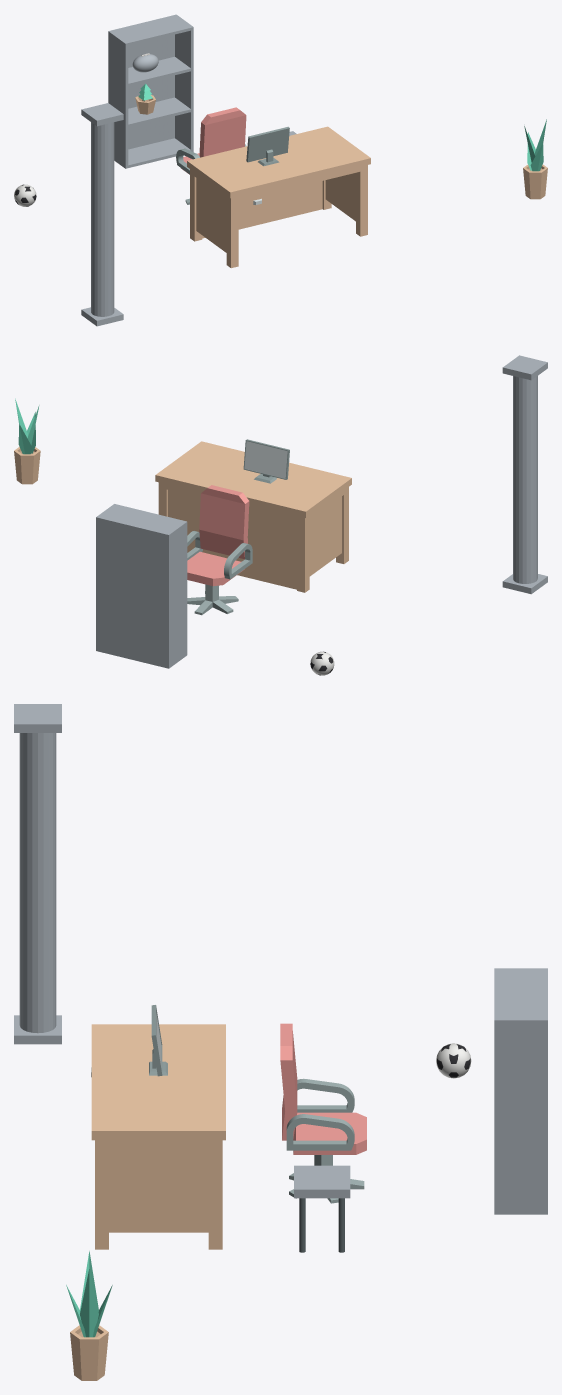
3 renders of one model, top to bottom at view 1: azimuth 30°, elevation 25°; view 2: azimuth 150°, elevation 25°; view 3: azimuth 270°, elevation 25°, orthographic. The views are drawn at different scales.
Visible parts, largest first — view 1: desk_blue__desk(Clone), column_cyan__column_cyan shaft, shelf_orange__shelf_orange back, shelf_orange__shelf_orange side_l, deskchair_black__chair, shelf_orange__shelf_orange side_r, monitor_gray__computerScreen(Clone), shelf_orange__shelf_orange board3, shelf_orange__shelf_orange board0, shelf_orange__shelf_orange board1, shelf_orange__shelf_orange board2, plant_pink__pottedPlant(Clone) (+7 smaller); view 2: desk_blue__desk(Clone), shelf_orange__shelf_orange back, column_cyan__column_cyan shaft, deskchair_black__chair, shelf_orange__shelf_orange side_l, monitor_gray__computerScreen(Clone), shelf_orange__shelf_orange board3, deskchair_black__chairDesk(Clone), plant_pink__pottedPlant(Clone), column_cyan__column_cyan capital, plant_pink__plant, soccer_white__soccer_white (+2 smaller); view 3: desk_blue__desk(Clone), column_cyan__column_cyan shaft, shelf_orange__shelf_orange side_r, deskchair_black__chair, shelf_orange__shelf_orange board3, stool_purple__stool_purple seat, plant_pink__pottedPlant(Clone), column_cyan__column_cyan capital, plant_pink__plant, soccer_white__soccer_white, column_cyan__column_cyan plinth.
Boxes of the visible parts, bbox=[...] form: desk_blue__desk(Clone): bbox=[187, 126, 370, 268]; column_cyan__column_cyan shaft: bbox=[91, 122, 114, 316]; shelf_orange__shelf_orange back: bbox=[111, 15, 174, 149]; shelf_orange__shelf_orange side_l: bbox=[108, 30, 128, 168]; deskchair_black__chair: bbox=[176, 107, 246, 174]; shelf_orange__shelf_orange side_r: bbox=[174, 14, 193, 151]; monitor_gray__computerScreen(Clone): bbox=[246, 126, 289, 166]; shelf_orange__shelf_orange board3: bbox=[112, 16, 190, 45]; shelf_orange__shelf_orange board0: bbox=[128, 138, 190, 167]; shelf_orange__shelf_orange board1: bbox=[128, 97, 190, 127]; shelf_orange__shelf_orange board2: bbox=[128, 56, 190, 86]; plant_pink__pottedPlant(Clone): bbox=[523, 164, 547, 199]; desk_blue__desk(Clone): bbox=[155, 441, 351, 592]; shelf_orange__shelf_orange back: bbox=[98, 517, 166, 667]; column_cyan__column_cyan shaft: bbox=[513, 376, 537, 583]; deskchair_black__chair: bbox=[187, 485, 252, 586]; shelf_orange__shelf_orange side_l: bbox=[166, 521, 187, 668]; monitor_gray__computerScreen(Clone): bbox=[243, 439, 289, 483]; shelf_orange__shelf_orange board3: bbox=[100, 504, 183, 533]; deskchair_black__chairDesk(Clone): bbox=[187, 584, 238, 615]; plant_pink__pottedPlant(Clone): bbox=[14, 447, 40, 484]; column_cyan__column_cyan capital: bbox=[502, 355, 547, 380]; plant_pink__plant: bbox=[15, 398, 39, 454]; soccer_white__soccer_white: bbox=[310, 651, 334, 675]; desk_blue__desk(Clone): bbox=[91, 1024, 225, 1249]; column_cyan__column_cyan shaft: bbox=[19, 733, 56, 1033]; shelf_orange__shelf_orange side_r: bbox=[494, 1018, 547, 1214]; deskchair_black__chair: bbox=[280, 1023, 366, 1154]; shelf_orange__shelf_orange board3: bbox=[494, 970, 544, 1017]; stool_purple__stool_purple seat: bbox=[294, 1165, 350, 1198]; plant_pink__pottedPlant(Clone): bbox=[70, 1325, 108, 1380]; column_cyan__column_cyan capital: bbox=[14, 704, 61, 732]; plant_pink__plant: bbox=[66, 1251, 112, 1337]; soccer_white__soccer_white: bbox=[436, 1043, 471, 1078]; column_cyan__column_cyan plinth: bbox=[14, 1015, 61, 1044].
Bounding box in the file's own units: 5.31 × 2.2 × 3.33.
